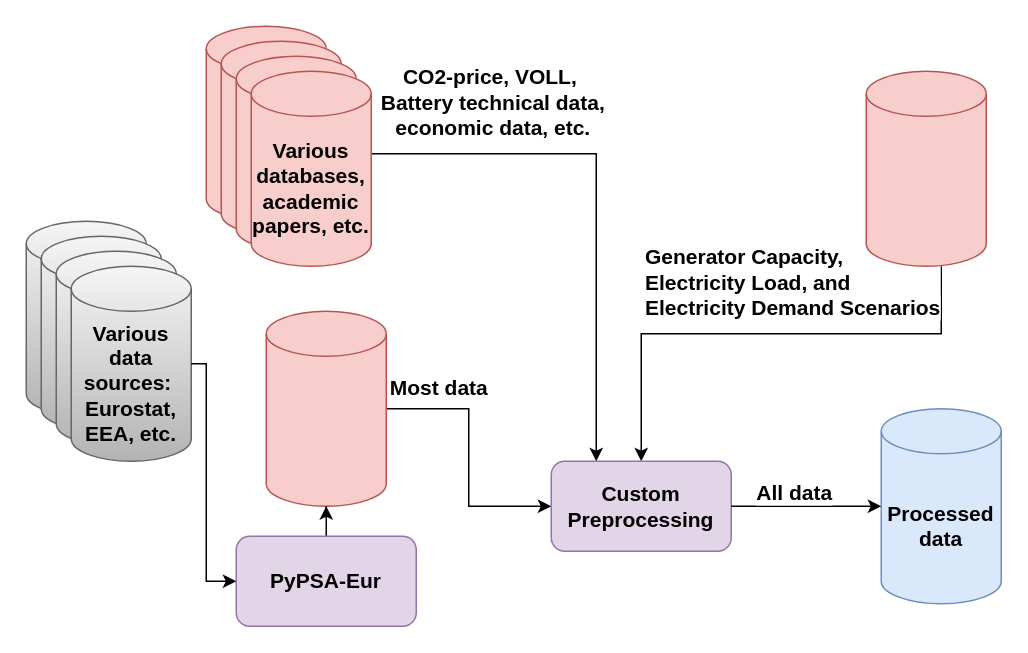
Image size: 1028x653. Some labels were removed from this diagram. Each missing label, with the centre of its shape:
ENTSO-e: the point at 925,168
Zenodo (PyPSA-Eur data bundle): the point at 325,408
